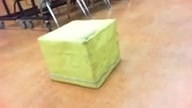cube: (37, 18, 120, 89)
